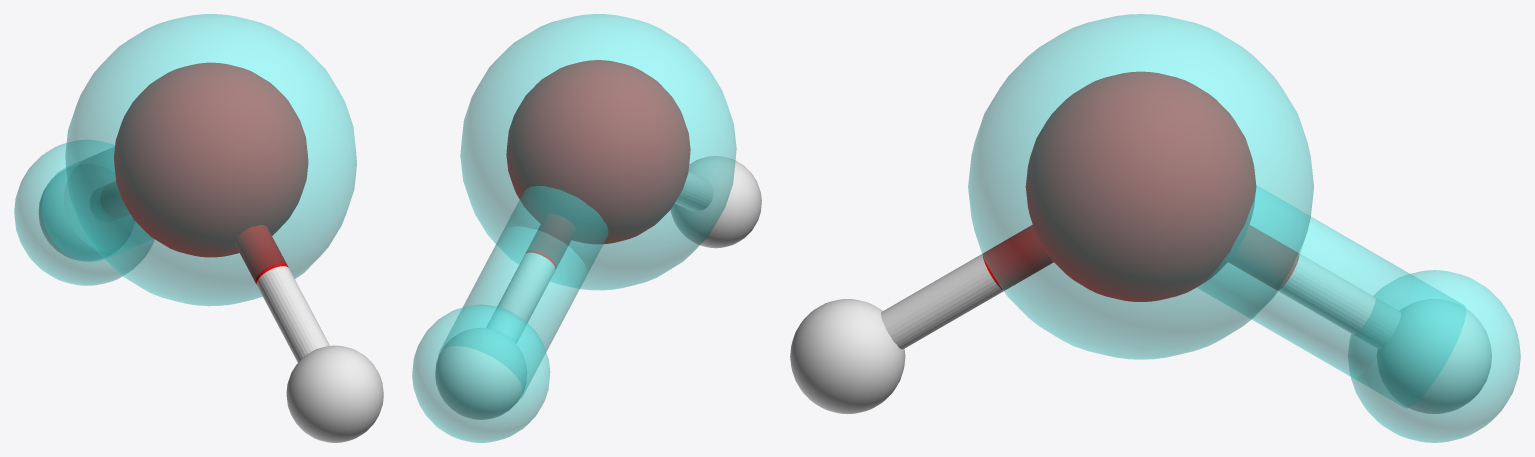
File: water_gltf.glb
3 views of the same model, side by side, from view 1: azimuth 30°, elevation 25°; view 2: azimuth 150°, elevation 25°; view 3: azimuth 270°, elevation 25° (orthographic). The views are drawn at different scales.
Visible parts, largest first — view 1: O01*highlight, O01, H02*highlight, O01*H02*highlight, H03, O01-H03, H02, O01-H02; view 2: O01*highlight, O01, O01*H02*highlight, H02*highlight, H02, H03, O01-H02, O01-H03; view 3: O01*highlight, O01, O01*H02*highlight, H02*highlight, H03, H02, O01-H03, O01-H02.
Boxes of the visible parts, left/top/right/bottom form: O01*highlight: left=65, top=14, right=356, bottom=306; O01: left=114, top=62, right=308, bottom=257; H02*highlight: left=14, top=140, right=154, bottom=285; O01*H02*highlight: left=42, top=147, right=152, bottom=261; H03: left=286, top=345, right=383, bottom=442; O01-H03: left=235, top=225, right=329, bottom=362; H02: left=38, top=169, right=103, bottom=260; O01-H02: left=100, top=181, right=129, bottom=218; O01*highlight: left=460, top=14, right=736, bottom=290; O01: left=506, top=60, right=690, bottom=243; O01*H02*highlight: left=438, top=186, right=607, bottom=399; H02*highlight: left=412, top=305, right=550, bottom=442; H02: left=435, top=328, right=526, bottom=419; H03: left=670, top=156, right=761, bottom=248; O01-H02: left=486, top=214, right=575, bottom=343; O01-H03: left=675, top=172, right=713, bottom=211; O01*highlight: left=968, top=14, right=1313, bottom=359; O01: left=1025, top=71, right=1256, bottom=301; O01*H02*highlight: left=1197, top=185, right=1465, bottom=407; H02*highlight: left=1348, top=270, right=1520, bottom=442; H03: left=790, top=299, right=905, bottom=414; H02: left=1377, top=299, right=1491, bottom=414; O01-H03: left=881, top=225, right=1053, bottom=349; O01-H02: left=1229, top=225, right=1400, bottom=348.
Bounding box in the file's own units: 0.96 × 1.24 × 2.03.
